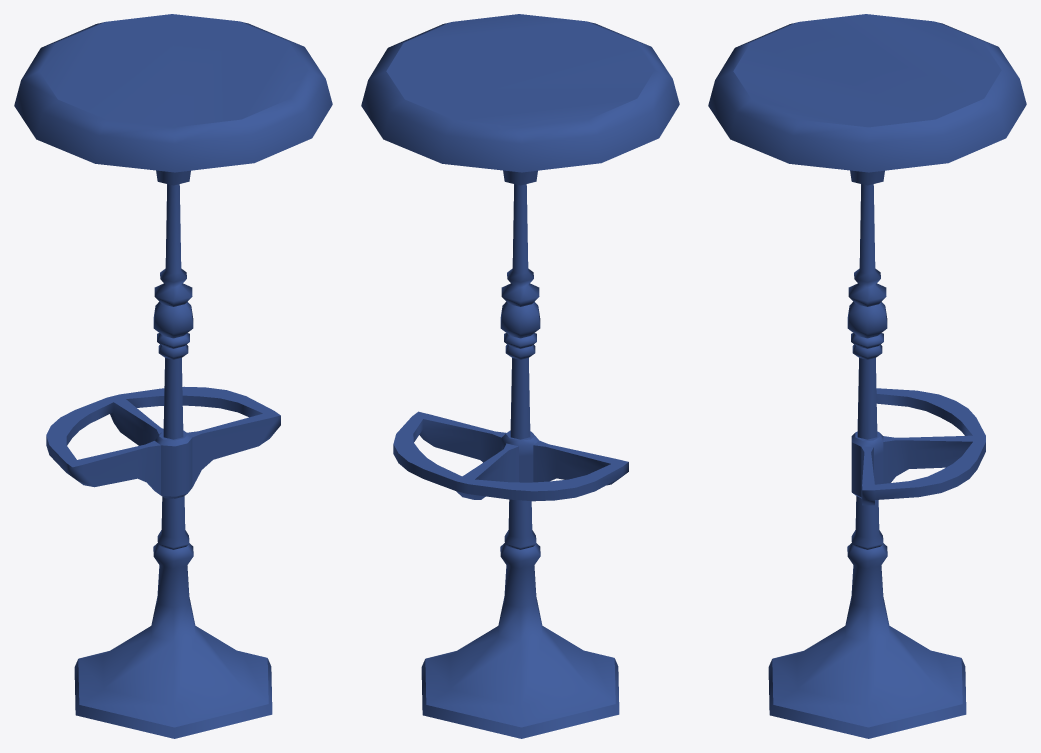
Rendered from Stool.fbx.
The picture shows the model from 3 angles, left to right: view 1: azimuth 30°, elevation 25°; view 2: azimuth 150°, elevation 25°; view 3: azimuth 270°, elevation 25°; orthographic projection.
Visible parts, largest first — view 1: Stool_01; view 2: Stool_01; view 3: Stool_01.
Boxes of the visible parts, x1,y1,x2,y2 form: Stool_01: (14, 14, 332, 738); Stool_01: (361, 14, 679, 738); Stool_01: (708, 14, 1026, 738).
Size of the model in its own units: 31.06 by 66.7 by 31.06.
